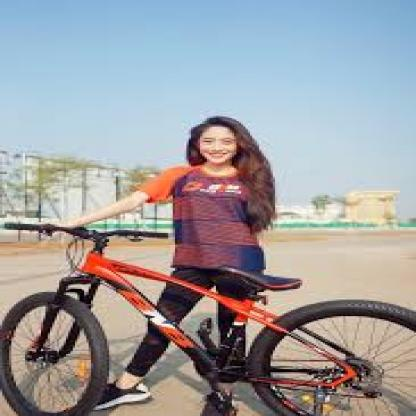Bike: (4, 210, 416, 416)
